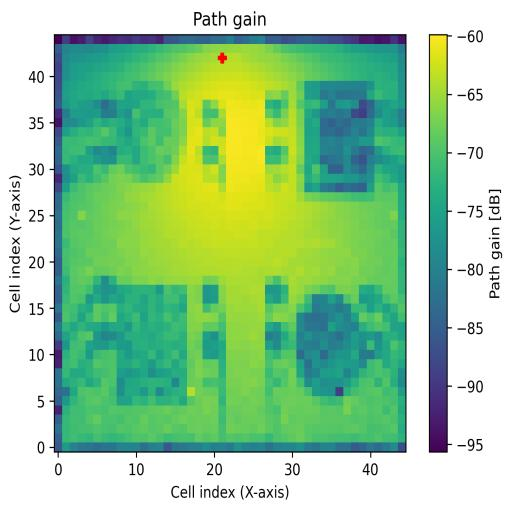Concrete: (296, 81, 375, 202)
Glass: (118, 81, 188, 182)
Metal: (297, 286, 375, 397)
Wood: (118, 284, 187, 404)
